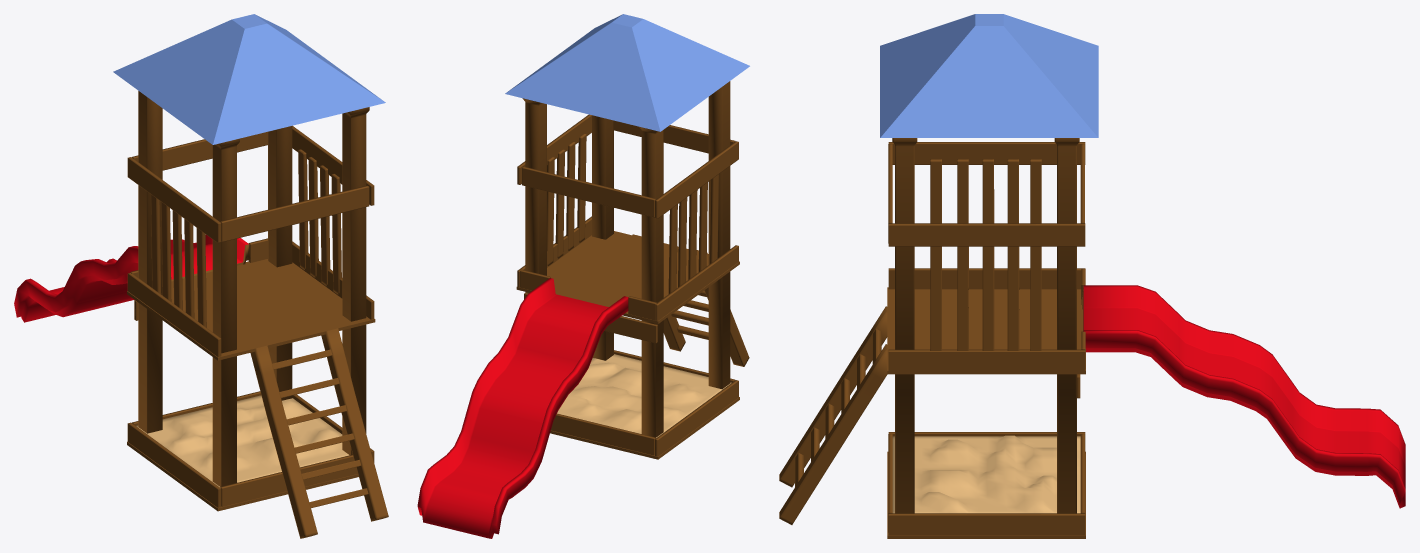
The model's file is SM_Slide.fbx.
3 views of the same model, side by side, from view 1: azimuth 30°, elevation 25°; view 2: azimuth 150°, elevation 25°; view 3: azimuth 270°, elevation 25° (orthographic). The views are drawn at different scales.
Parts seen in each view (by area): view 1: PlaygroundCoated; view 2: PlaygroundCoated; view 3: PlaygroundCoated.
Boxes of the visible parts, left/top/right/bottom form: PlaygroundCoated: left=14, top=14, right=388, bottom=538; PlaygroundCoated: left=417, top=14, right=749, bottom=538; PlaygroundCoated: left=779, top=14, right=1405, bottom=538.
Size of the model in its own units: 296 by 720 by 848.
